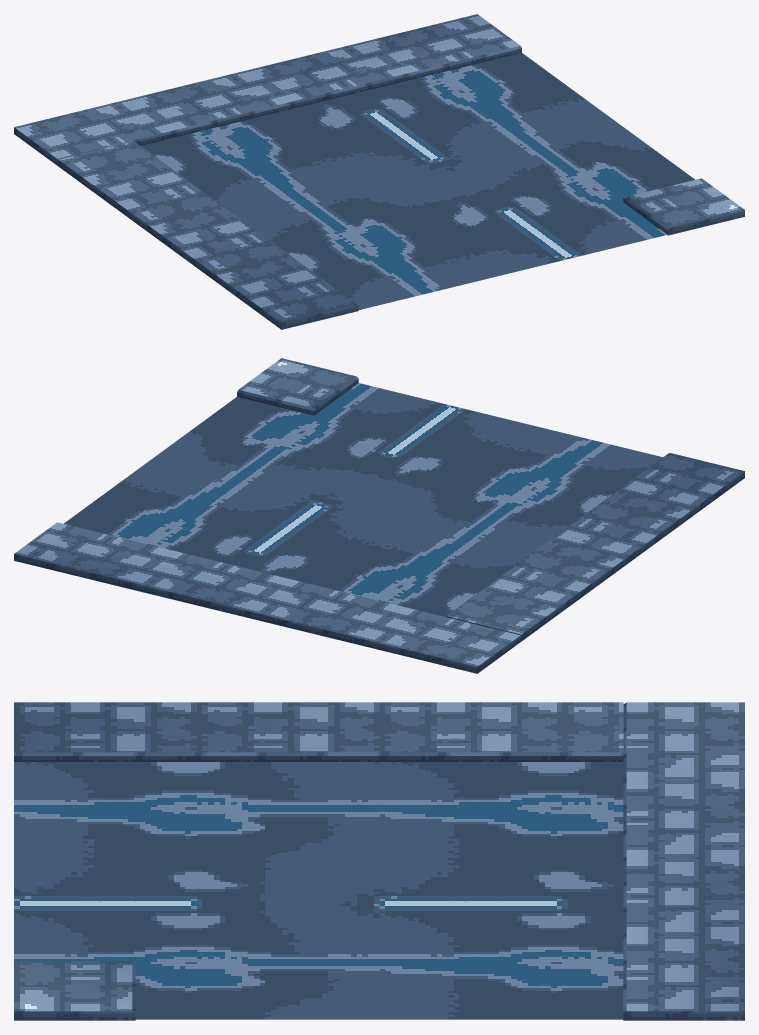
The model's file is cystreet.corner.glb.
3 renders of one model, top to bottom at view 1: azimuth 30°, elevation 25°; view 2: azimuth 150°, elevation 25°; view 3: azimuth 270°, elevation 25°, orthographic. The views are drawn at different scales.
Visible parts, largest first — view 1: kit_shell_road, kit_walks; view 2: kit_shell_road, kit_walks; view 3: kit_shell_road, kit_walks.
Boxes of the visible parts, x1,y1,x2,y2 form: kit_shell_road: (141,53,694,309); kit_walks: (14,14,744,329); kit_shell_road: (64,383,662,616); kit_walks: (14,358,744,673); kit_shell_road: (14,762,623,1019); kit_walks: (14,702,744,1020).
Size of the model in its own units: 12 by 0.17 by 12.
Materials: 3 (3 with a texture image).
